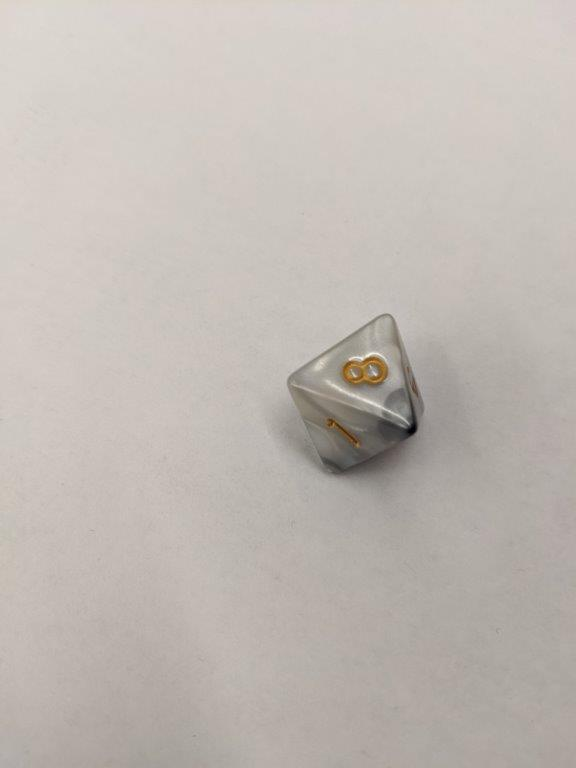d8-8: (286, 313, 429, 480)
